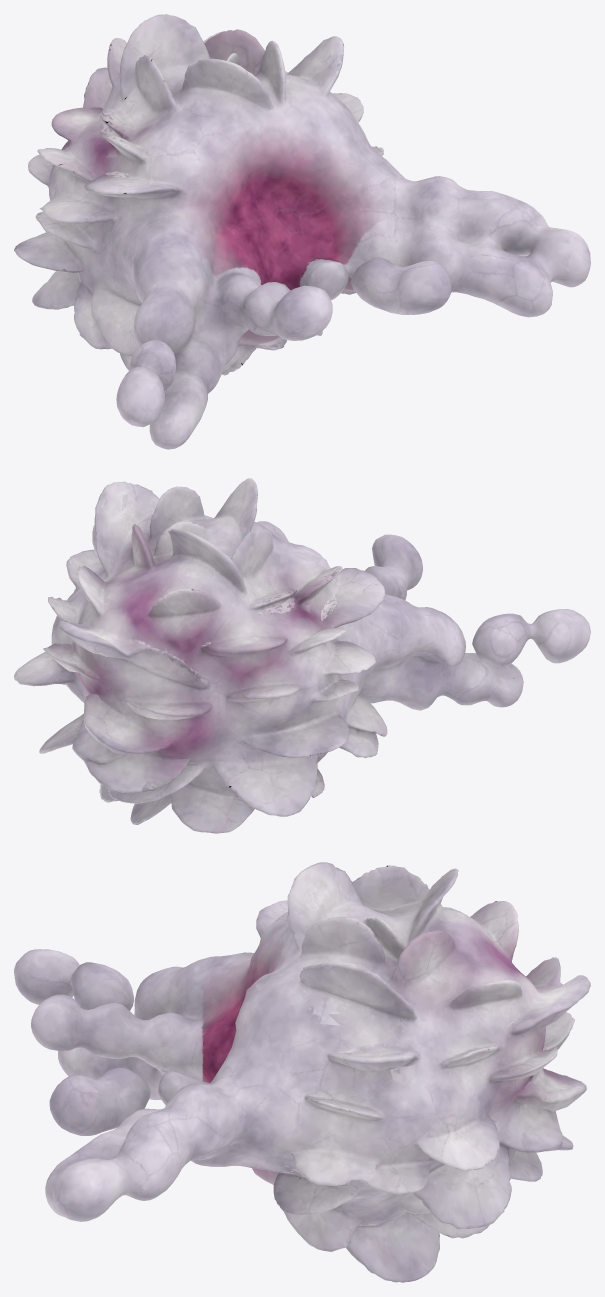
File: boss-macrophage.glb
The picture shows the model from 3 angles, top to bottom: view 1: azimuth 30°, elevation 25°; view 2: azimuth 150°, elevation 25°; view 3: azimuth 270°, elevation 25°; orthographic projection. The views are drawn at different scales.
Visible parts, largest first — view 1: attack-membrane; view 2: attack-membrane; view 3: attack-membrane.
Boxes of the visible parts, x1,y1,x2,y2 form: attack-membrane: (14, 14, 590, 449); attack-membrane: (14, 478, 590, 833); attack-membrane: (14, 862, 590, 1282).
Size of the model in its own units: 1.99 by 1.34 by 1.89.
Materials: 1 (1 with a texture image).
